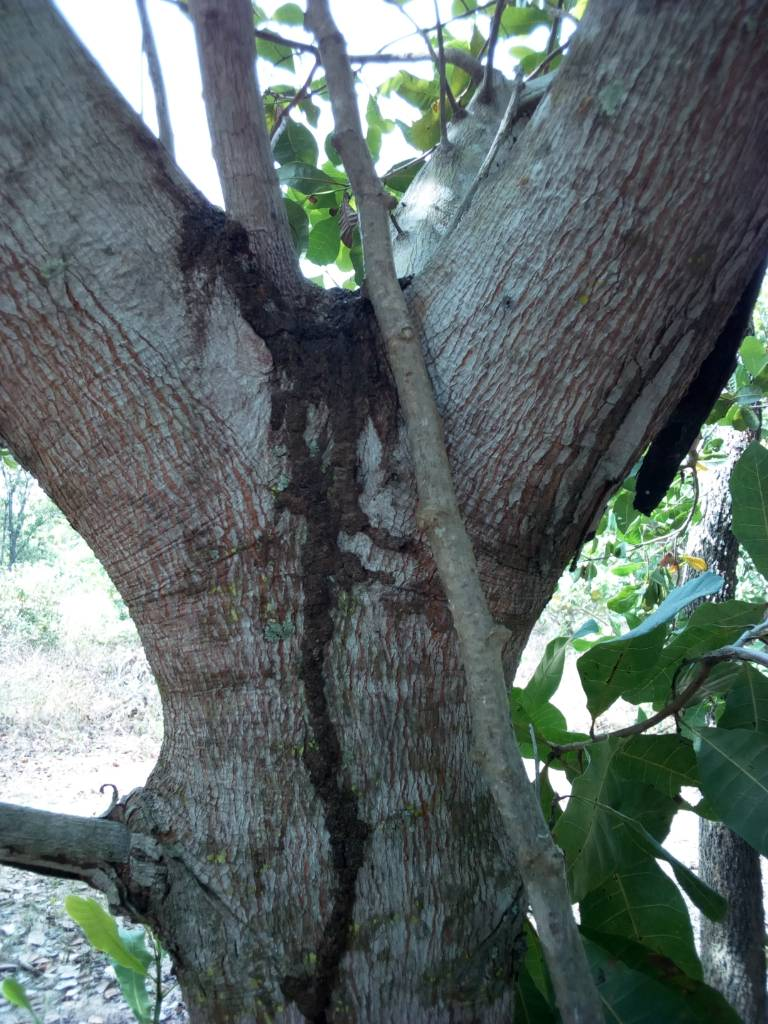Termites: (257, 267, 393, 1024)
